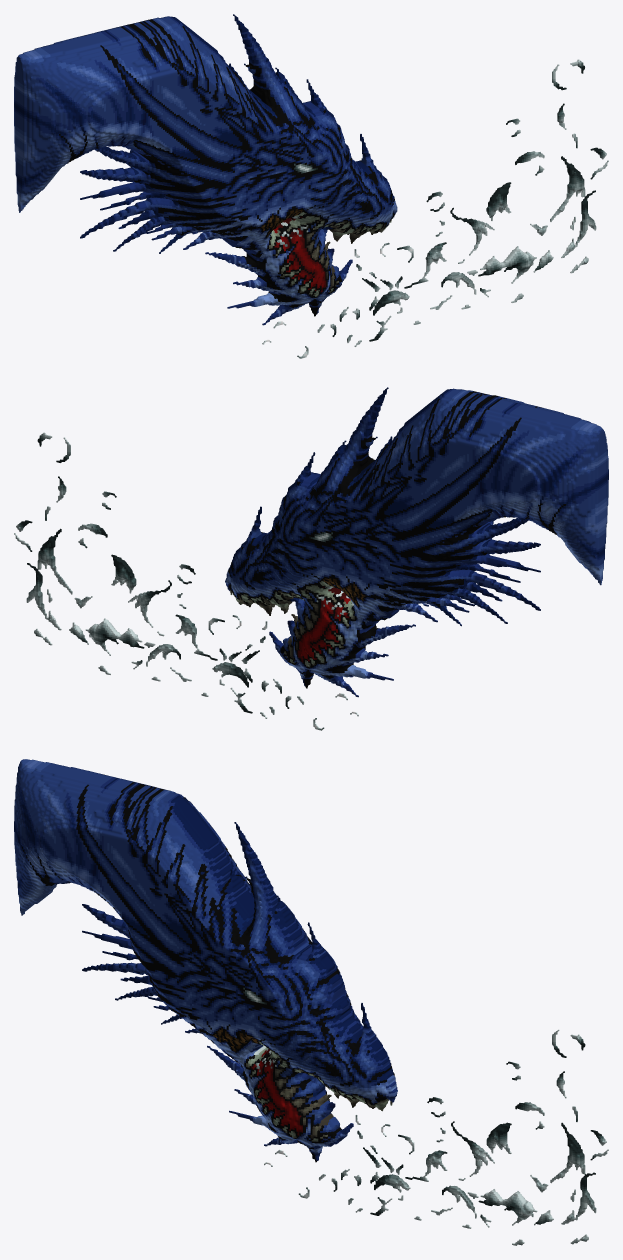
Rendered from Fight_759_2_09.obj.
3 renders of one model, top to bottom at view 1: azimuth 30°, elevation 25°; view 2: azimuth 150°, elevation 25°; view 3: azimuth 330°, elevation 25°, orthographic.
Bounding box in the file's own units: 31.98 × 19.28 × 4.4.
1 material, 1 textured.
